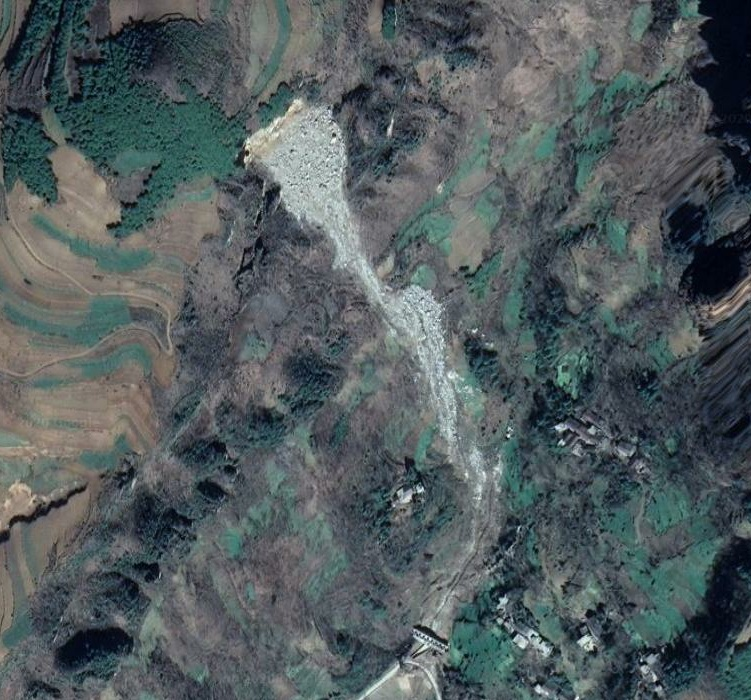slope: (243, 95, 480, 485)
